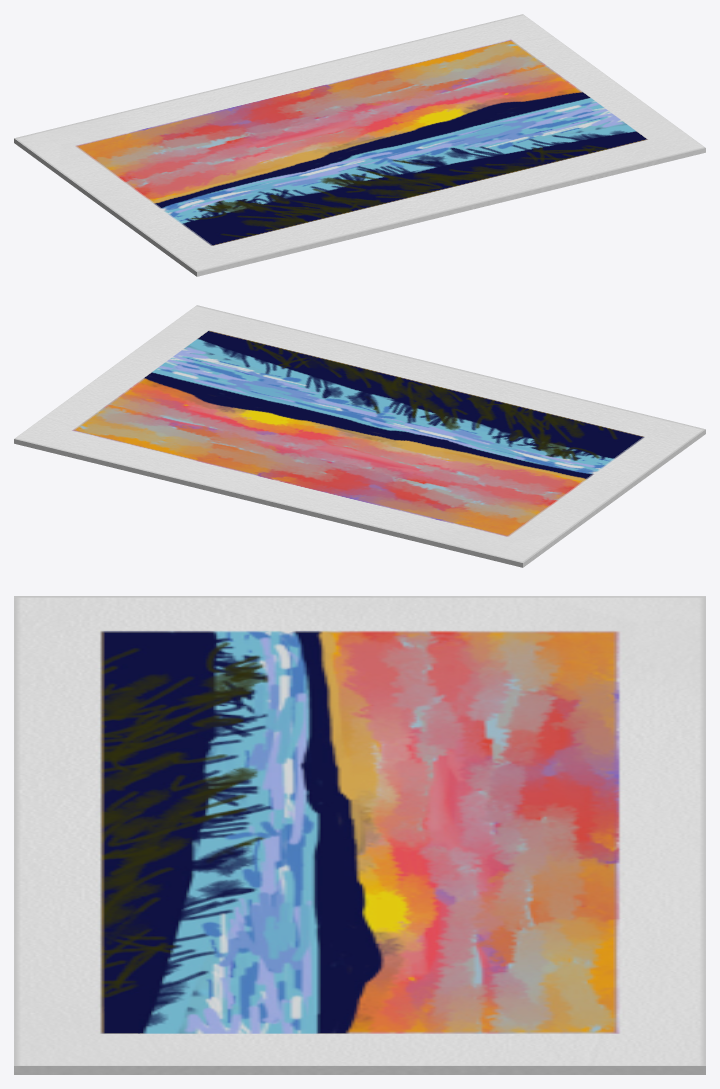
File: postcard.fbx
The picture shows the model from 3 angles, top to bottom: view 1: azimuth 30°, elevation 25°; view 2: azimuth 150°, elevation 25°; view 3: azimuth 270°, elevation 25°; orthographic projection. The views are drawn at different scales.
Visible parts, largest first — view 1: postcard; view 2: postcard; view 3: postcard.
Boxes of the visible parts, x1,y1,x2,y2 form: postcard: [14, 14, 705, 276]; postcard: [14, 305, 705, 567]; postcard: [14, 596, 705, 1074].
Size of the model in its own units: 39.21 by 0.3442 by 24.4.
Materials: 1 (1 with a texture image).
